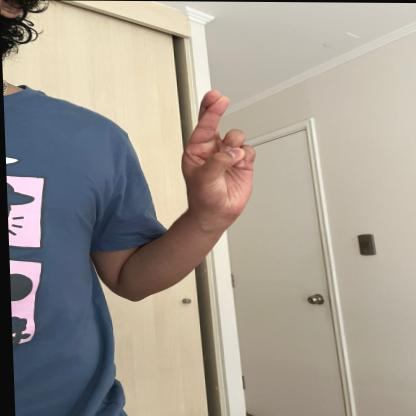R: (177, 87, 259, 218)
